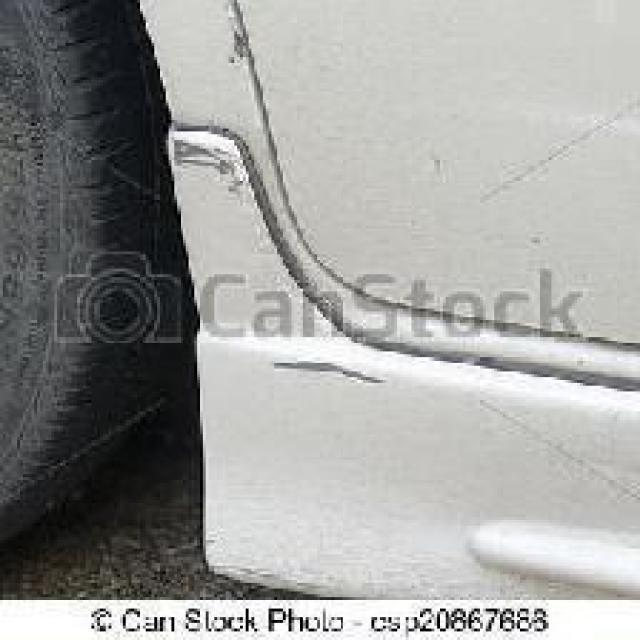damaged: (146, 0, 400, 397)
